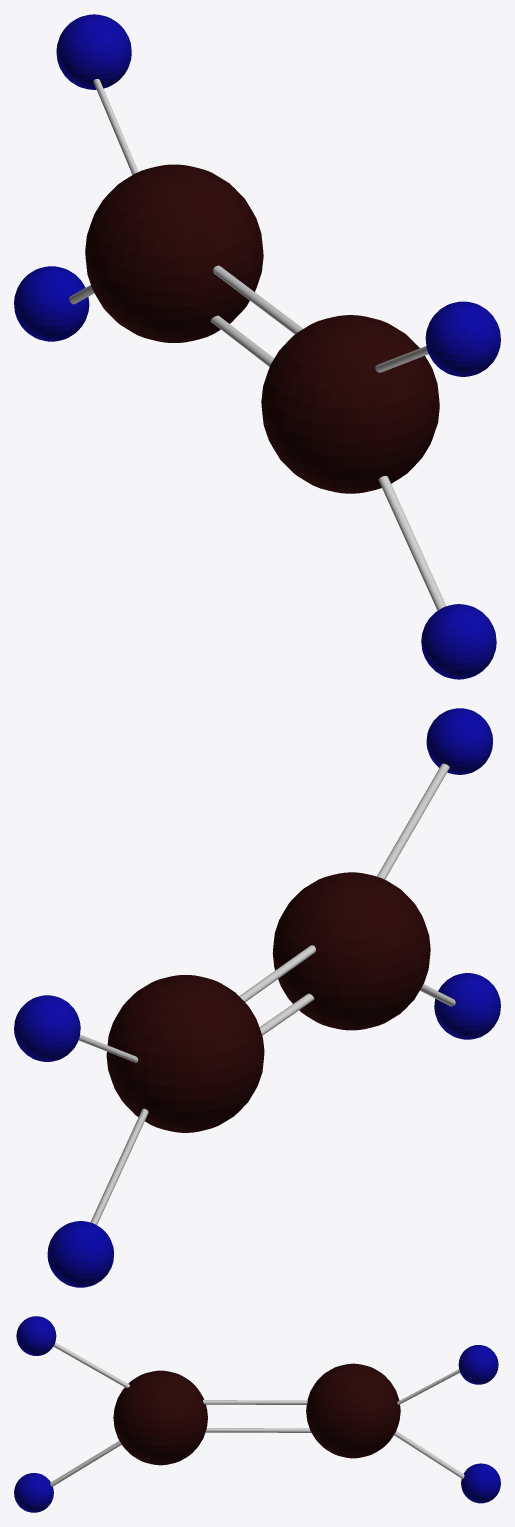
3 renders of one model, top to bottom at view 1: azimuth 30°, elevation 25°; view 2: azimuth 150°, elevation 25°; view 3: azimuth 270°, elevation 25°, orthographic. The views are drawn at different scales.
Parts seen in each view (by area): view 1: Sphere.004, Sphere.005, Sphere.003, Sphere, Sphere.002, Sphere.001, Cylinder, Cylinder.001, Cylinder.005_Cylinder.006, Cylinder.004; view 2: Sphere.005, Sphere.004, Sphere.002, Sphere.001, Sphere, Sphere.003, Cylinder.003_Cylinder.005, Cylinder.002, Cylinder.001; view 3: Sphere.005, Sphere.004, Sphere.002, Sphere, Sphere.003, Sphere.001, Cylinder.005_Cylinder.006, Cylinder.001, Cylinder.002, Cylinder.003_Cylinder.005, Cylinder, Cylinder.004.
Part boxes in pixels (box(x1,y1,x2,y2)): Sphere.004: box(261, 315, 439, 493); Sphere.005: box(85, 164, 263, 342); Sphere.003: box(421, 604, 496, 679); Sphere: box(425, 301, 500, 376); Sphere.002: box(56, 14, 131, 89); Sphere.001: box(14, 266, 89, 341); Cylinder: box(378, 476, 445, 610); Cylinder.001: box(213, 265, 302, 334); Cylinder.005_Cylinder.006: box(210, 315, 273, 366); Cylinder.004: box(93, 79, 138, 174); Sphere.005: box(106, 975, 264, 1132); Sphere.004: box(272, 872, 430, 1030); Sphere.002: box(14, 995, 80, 1061); Sphere.001: box(47, 1221, 113, 1287); Sphere: box(426, 708, 492, 774); Sphere.003: box(434, 973, 500, 1039); Cylinder.003_Cylinder.005: box(377, 763, 449, 879); Cylinder.002: box(90, 1108, 148, 1224); Cylinder.001: box(239, 945, 315, 1002); Sphere.005: box(306, 1363, 400, 1458); Sphere.004: box(113, 1370, 207, 1465); Sphere.002: box(458, 1345, 498, 1384); Sphere: box(16, 1316, 56, 1355); Sphere.003: box(14, 1473, 53, 1512); Sphere.001: box(461, 1463, 500, 1503); Cylinder.005_Cylinder.006: box(205, 1428, 311, 1432); Cylinder.001: box(203, 1400, 307, 1404); Cylinder.002: box(394, 1431, 464, 1478); Cylinder.003_Cylinder.005: box(53, 1342, 129, 1388); Cylinder: box(50, 1440, 121, 1486); Cylinder.004: box(397, 1369, 459, 1404).
Bounding box in the file's own units: 2.27 × 4.97 × 11.26.
